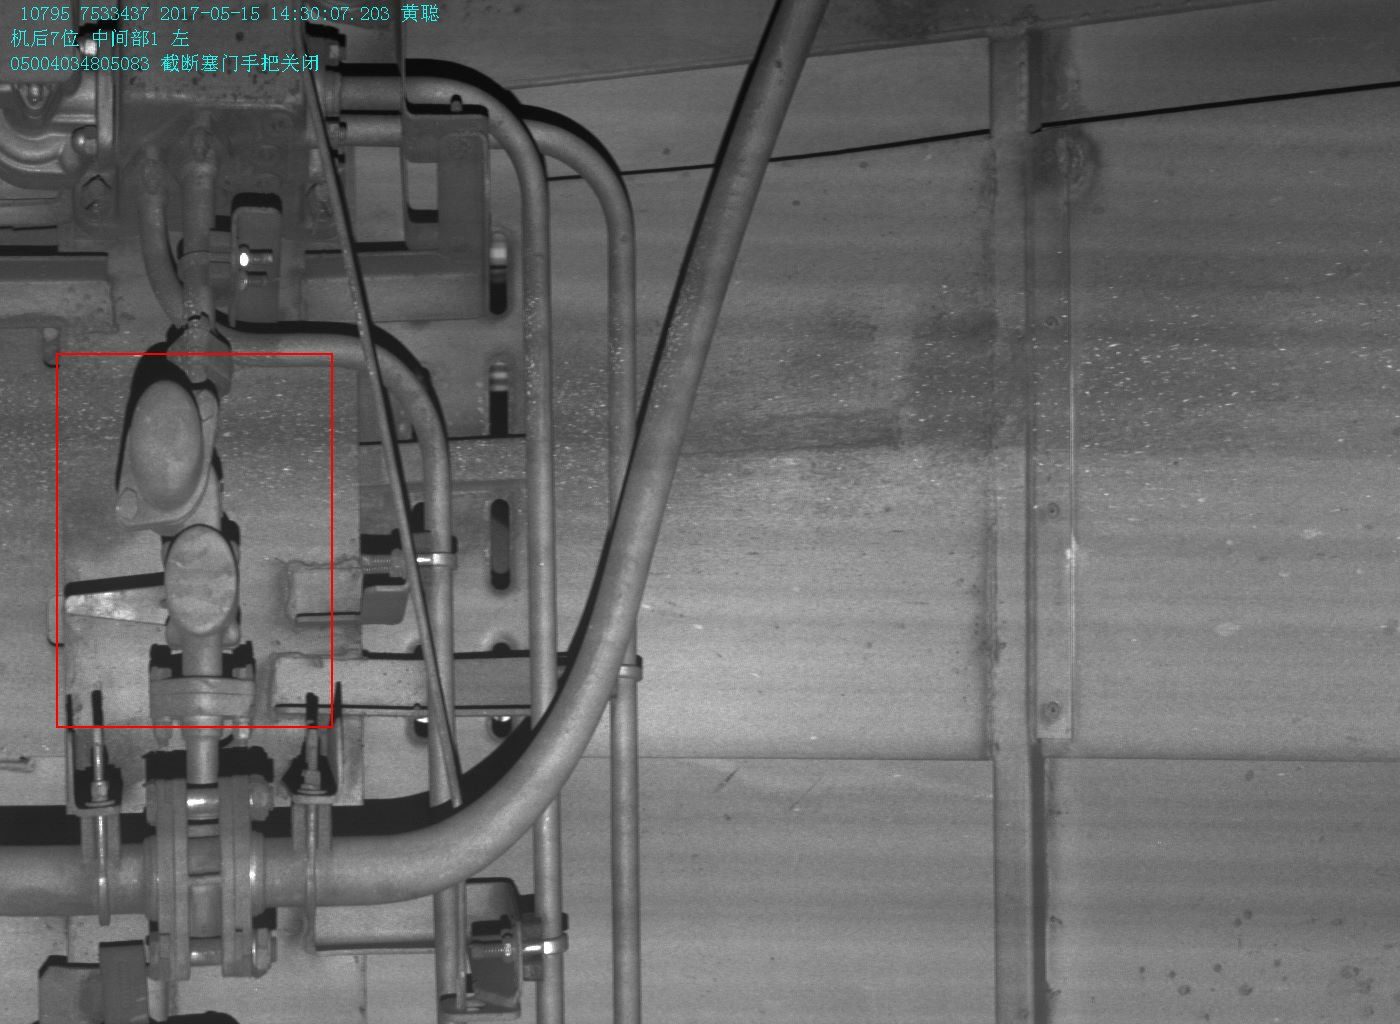truncated plug door handle: (67, 522, 243, 646)
